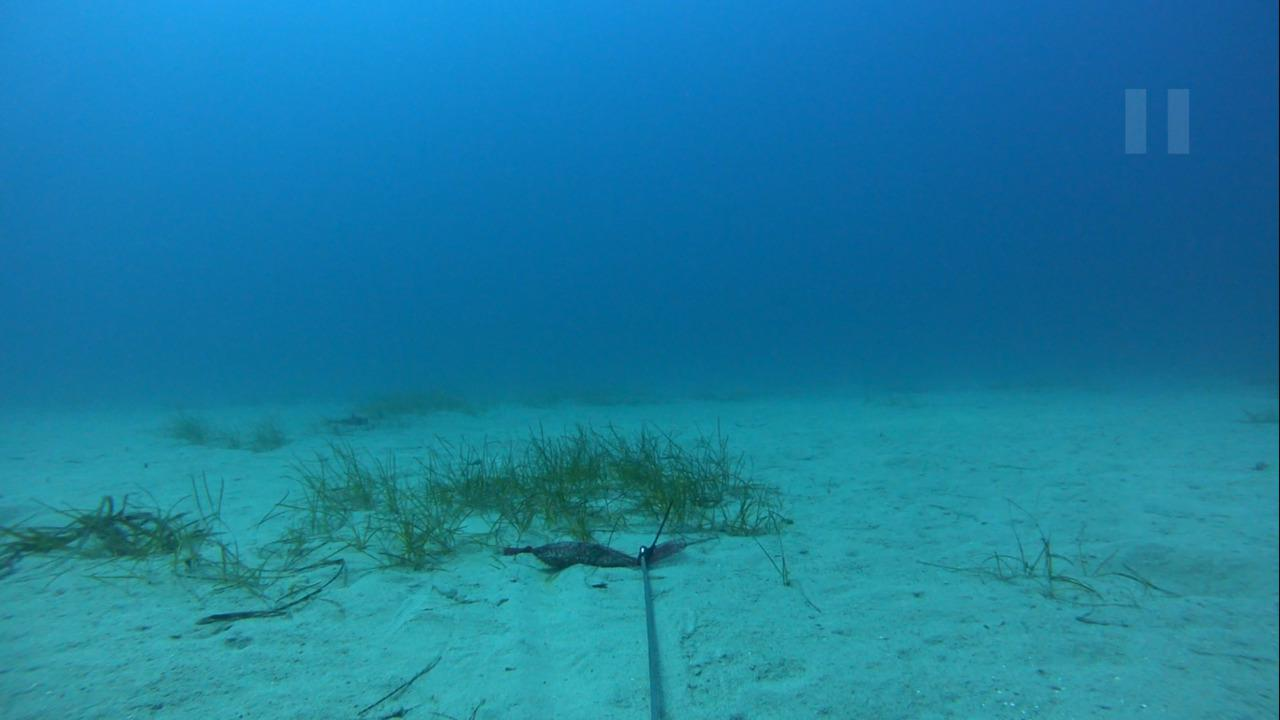dactylopterus: (306, 406, 389, 438)
